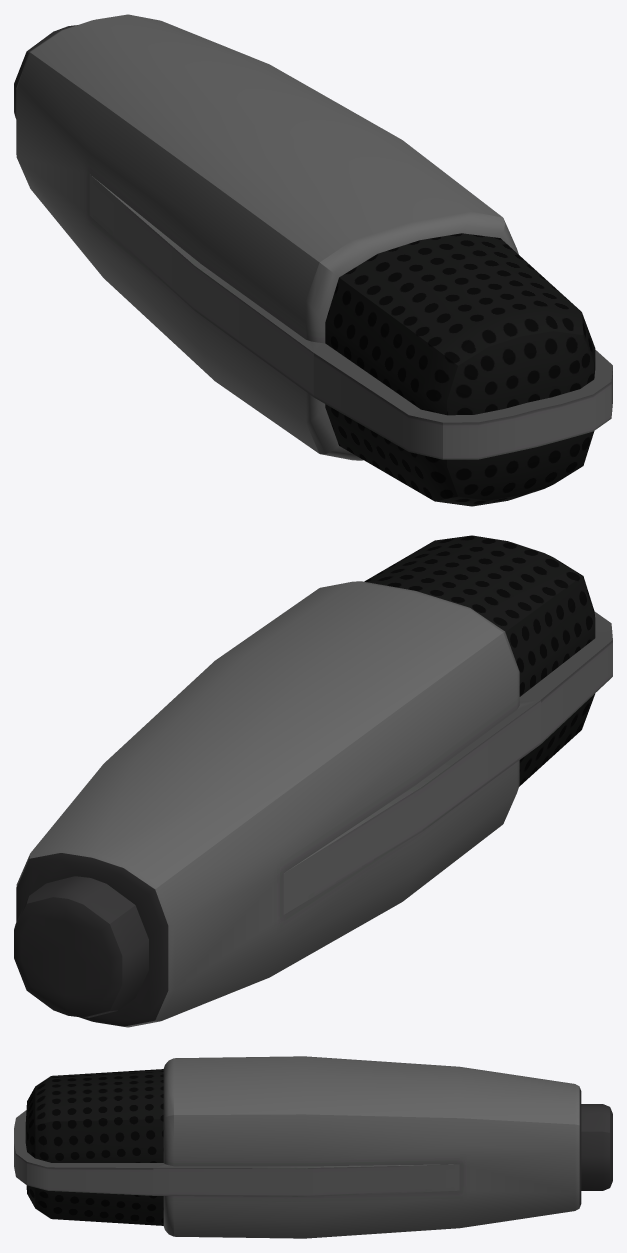
File: microphone.glb
3 renders of one model, top to bottom at view 1: azimuth 30°, elevation 25°; view 2: azimuth 150°, elevation 25°; view 3: azimuth 270°, elevation 25°, orthographic. The views are drawn at different scales.
Visible parts, largest first — view 1: Microphone_LOD0; view 2: Microphone_LOD0; view 3: Microphone_LOD0.
Part boxes in pixels (x1=…): Microphone_LOD0: x1=14, y1=14, x2=612, y2=506; Microphone_LOD0: x1=14, y1=535, x2=612, y2=1027; Microphone_LOD0: x1=14, y1=1056, x2=612, y2=1238.
Bounding box in the file's own units: 0.0843 × 0.0822 × 0.3035.
1 material, 1 textured.
